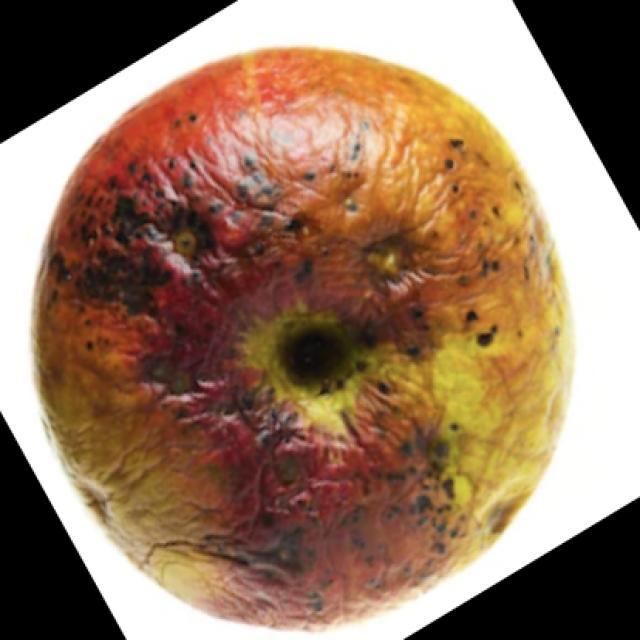Rotten: (43, 53, 565, 640)
